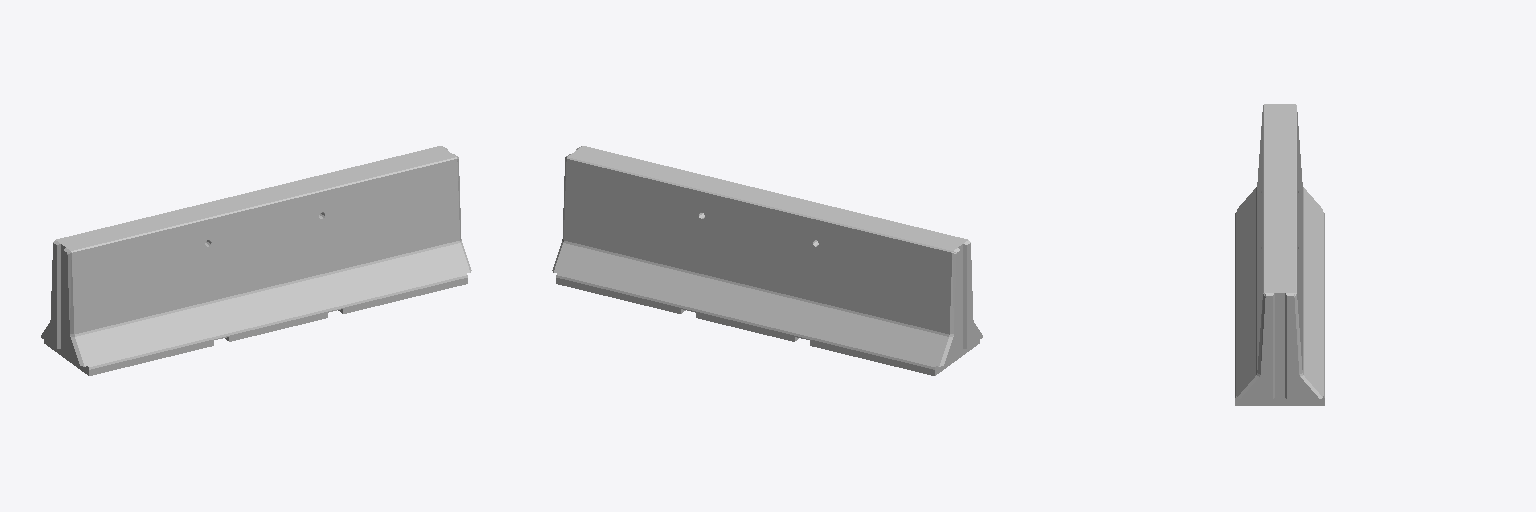
The model's file is barrier.obj.
The picture shows the model from 3 angles: view 1: azimuth 30°, elevation 25°; view 2: azimuth 150°, elevation 25°; view 3: azimuth 270°, elevation 25°; orthographic projection.
Parts seen in each view (by area): view 1: Jersey_Barrier_Jersey_Barrier.002; view 2: Jersey_Barrier_Jersey_Barrier.002; view 3: Jersey_Barrier_Jersey_Barrier.002.
Boxes of the visible parts, x1=… form: Jersey_Barrier_Jersey_Barrier.002: x1=41, y1=146, x2=471, y2=375; Jersey_Barrier_Jersey_Barrier.002: x1=552, y1=146, x2=982, y2=375; Jersey_Barrier_Jersey_Barrier.002: x1=1235, y1=104, x2=1324, y2=405.
Size of the model in its own units: 4.07 by 1.14 by 0.8128.